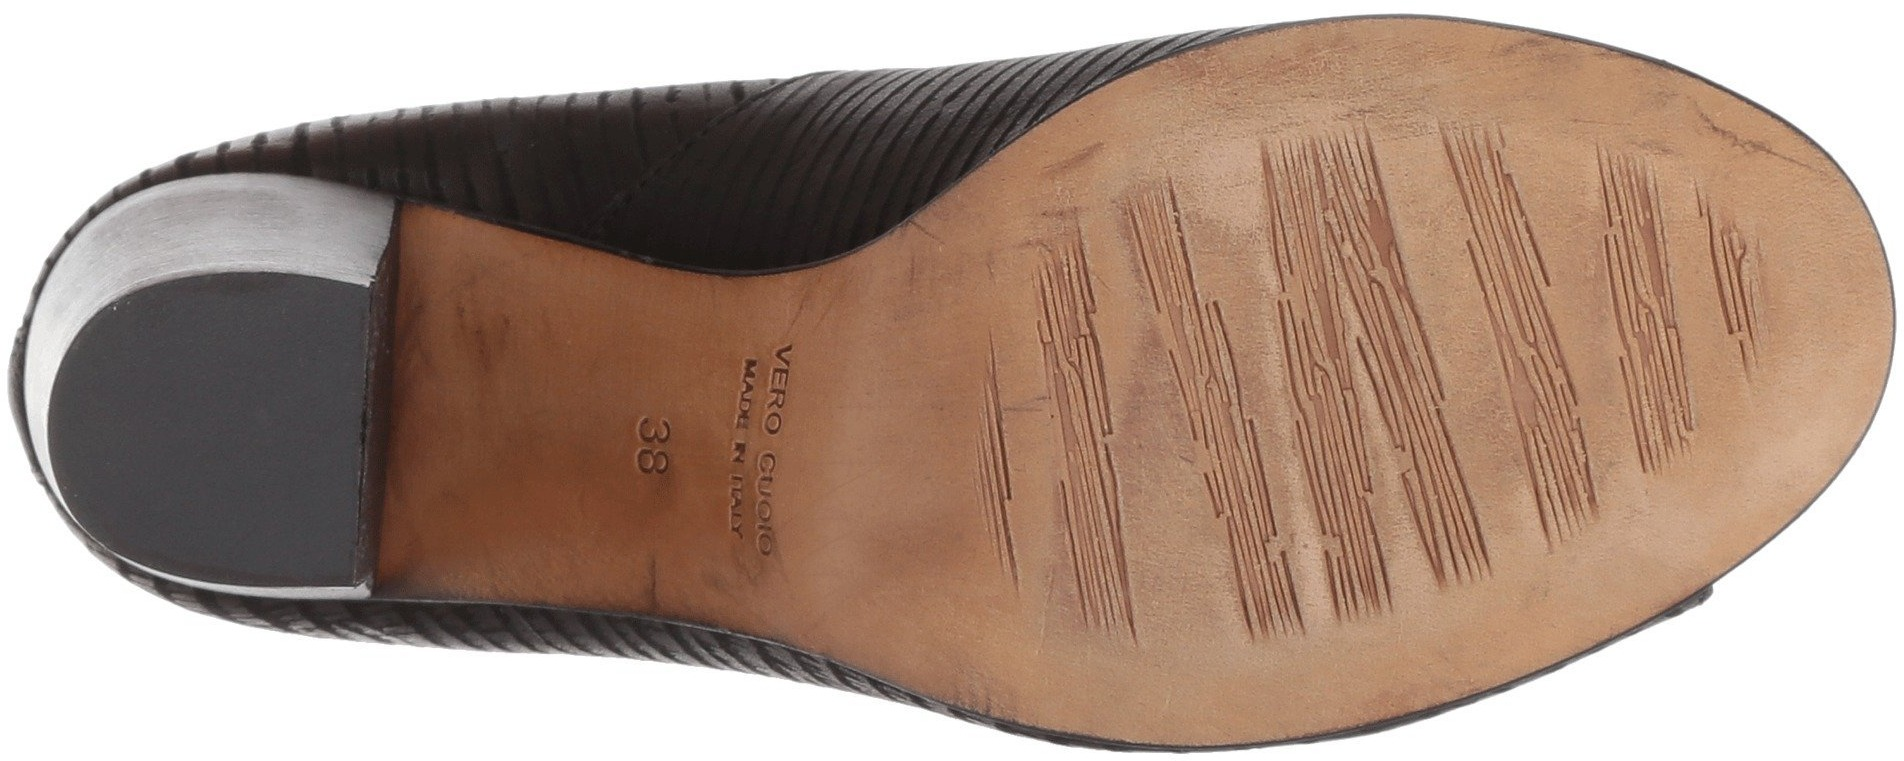other: (110, 294, 359, 540)
text: (656, 343, 861, 568)
